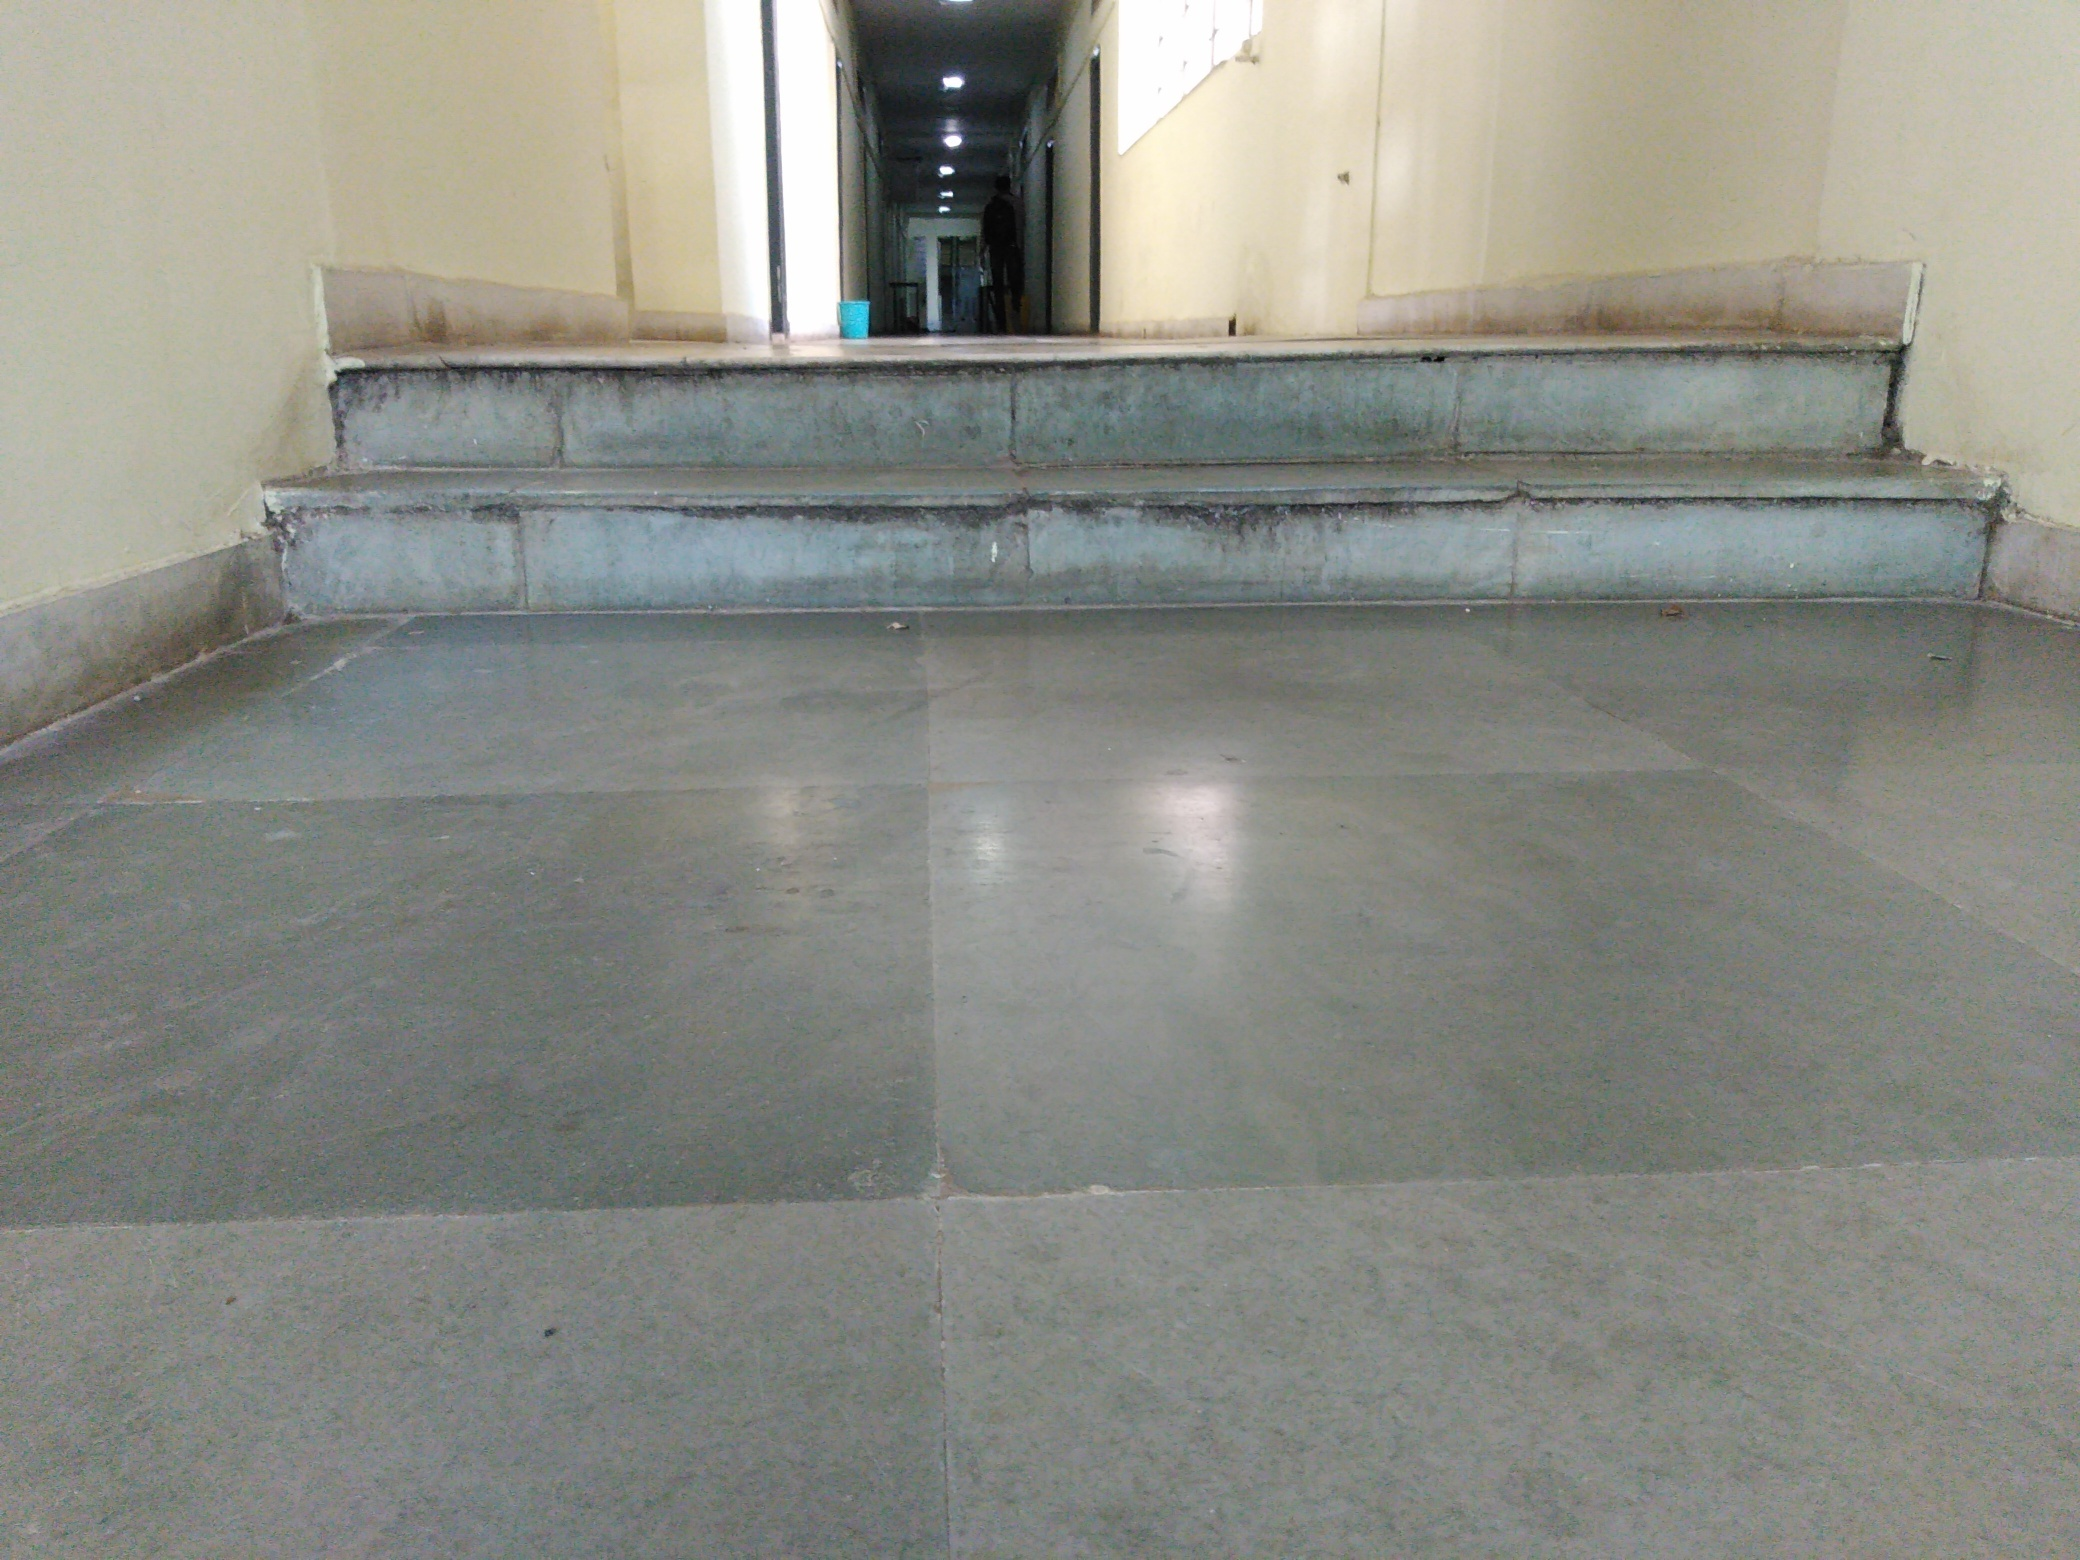stairs_up: (246, 352, 1995, 583)
